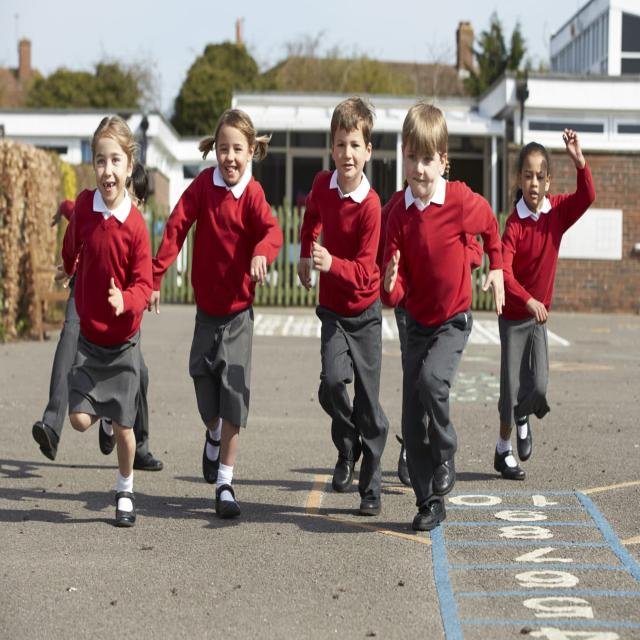Person: (154, 107, 284, 520), (382, 102, 506, 533), (55, 112, 154, 528), (296, 98, 391, 521), (493, 125, 598, 480)
